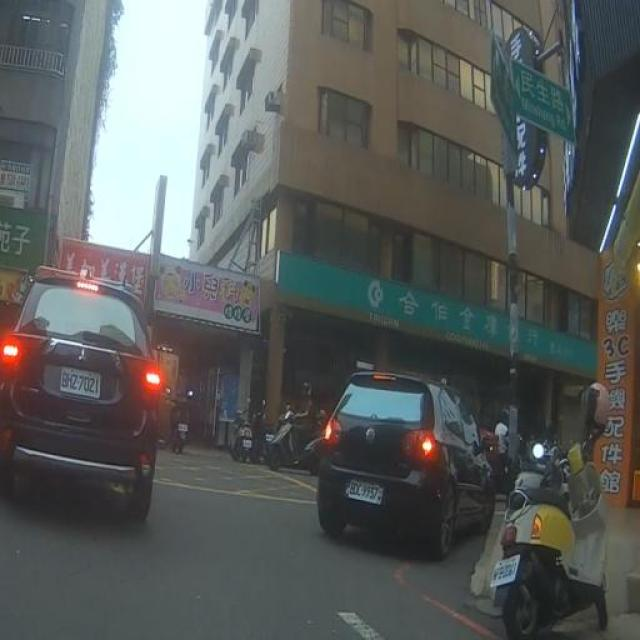illegalparking: (2, 278, 159, 519), (318, 372, 494, 551)
